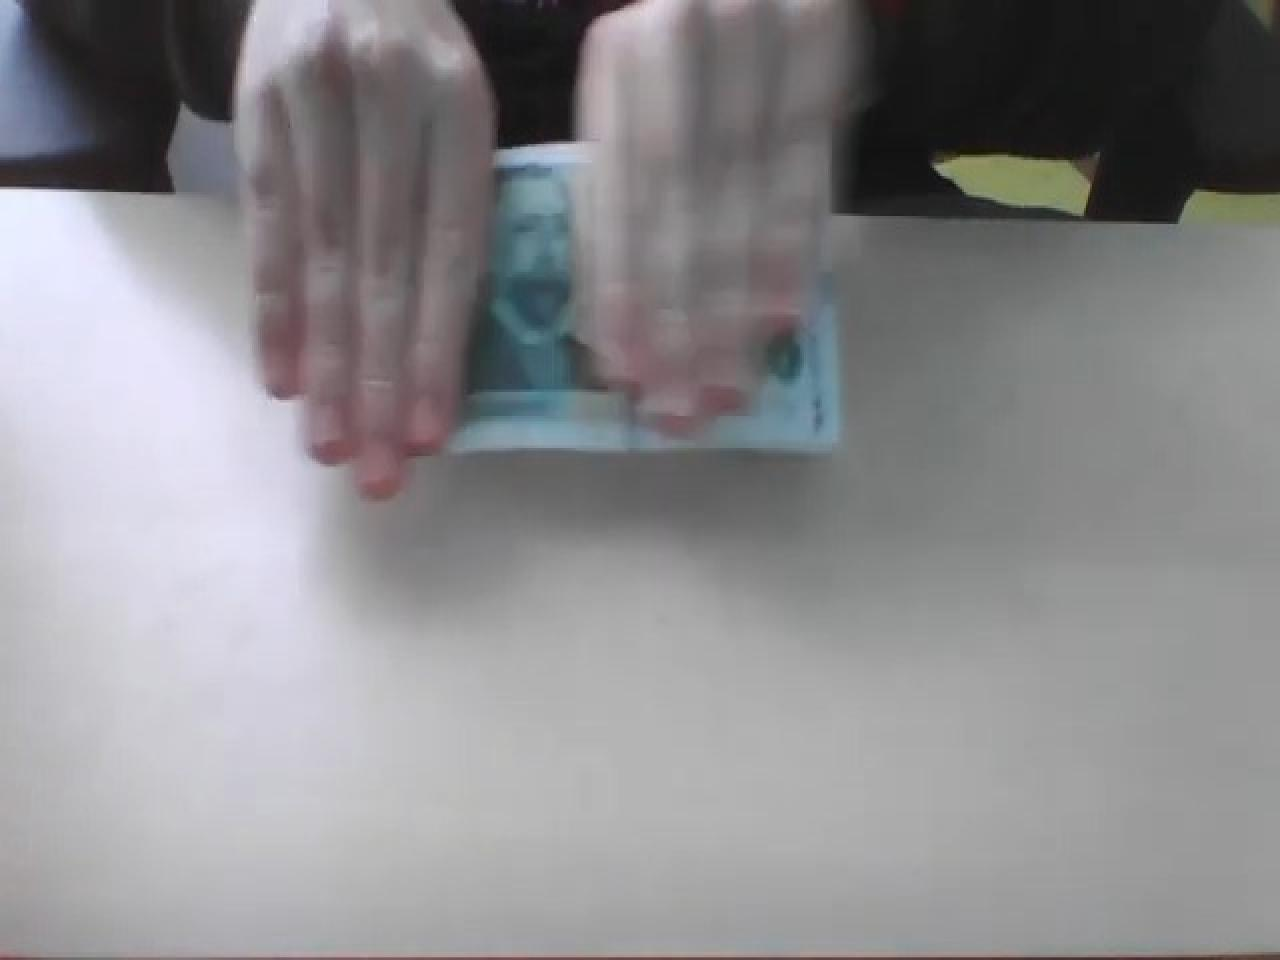100leva: (446, 133, 844, 462)
